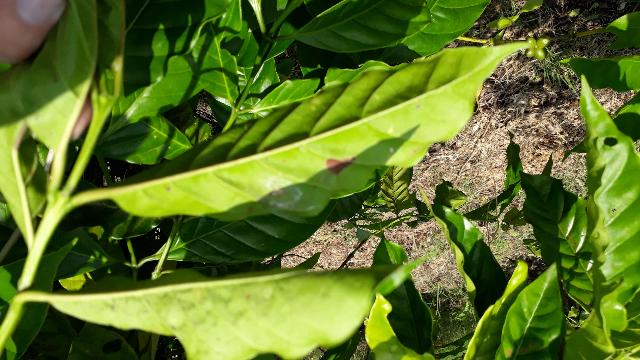red_spider_mite: (114, 142, 517, 317)
